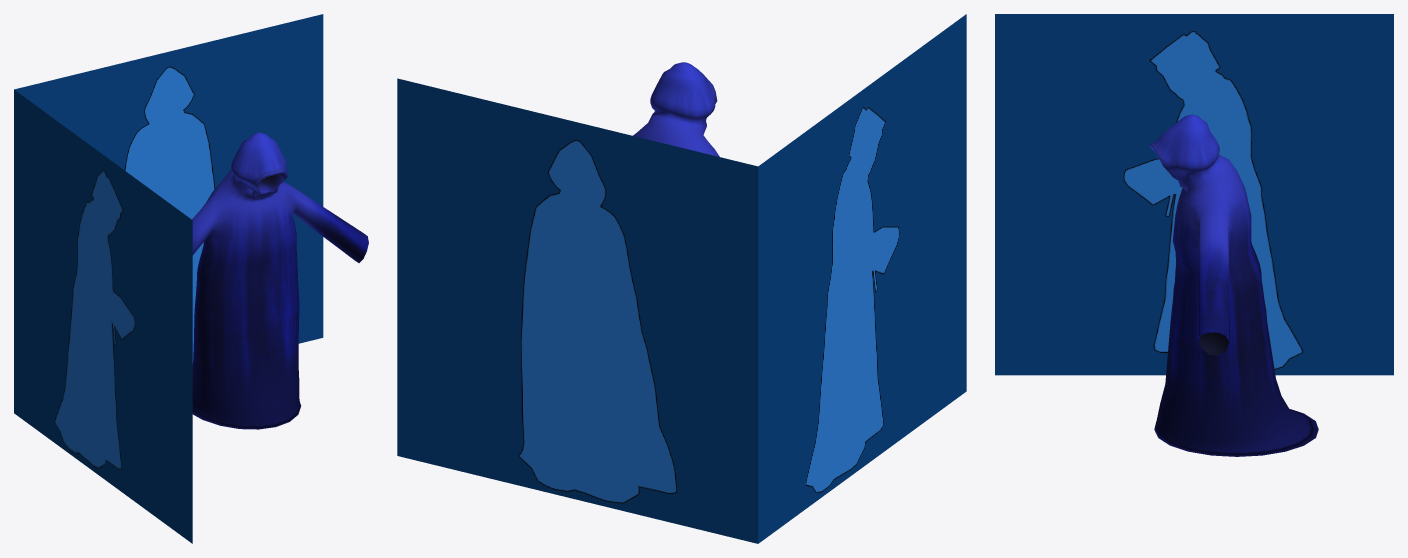
The model's file is cloaked_figure.glb.
3 renders of one model, left to right at view 1: azimuth 30°, elevation 25°; view 2: azimuth 150°, elevation 25°; view 3: azimuth 270°, elevation 25°, orthographic. The views are drawn at different scales.
Parts seen in each view (by area): view 1: pPlane1, pPlane2, Figure; view 2: pPlane2, pPlane1, Figure; view 3: pPlane1, Figure.
Boxes of the visible parts, x1,y1,x2,y2 form: pPlane1: (14,90,192,543); pPlane2: (14,14,323,364); Figure: (192,132,368,429); pPlane2: (397,78,758,543); pPlane1: (758,14,966,543); Figure: (633,62,719,156); pPlane1: (995,14,1393,375); Figure: (1149,114,1318,456).
Bounding box in the file's own units: 2.18 × 2.18 × 2.18.
Materials: 3 (3 with a texture image).
